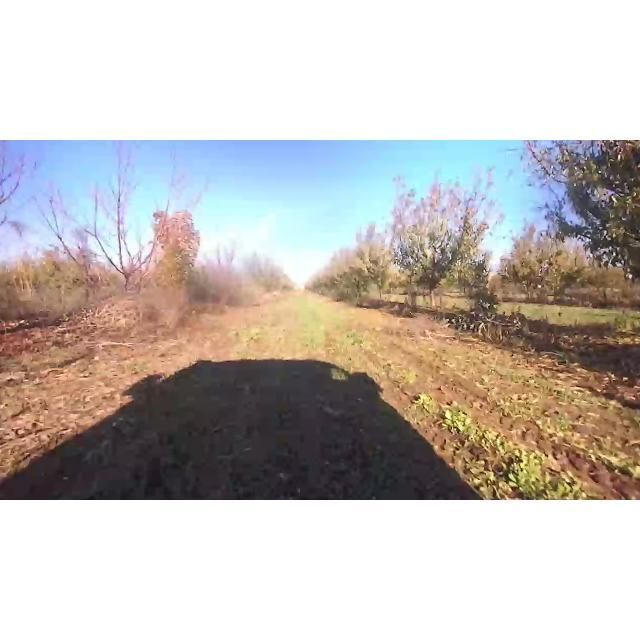tree: (49, 140, 187, 300), (378, 156, 510, 316), (515, 139, 640, 300), (504, 229, 590, 295), (158, 209, 206, 297), (341, 250, 382, 304)
